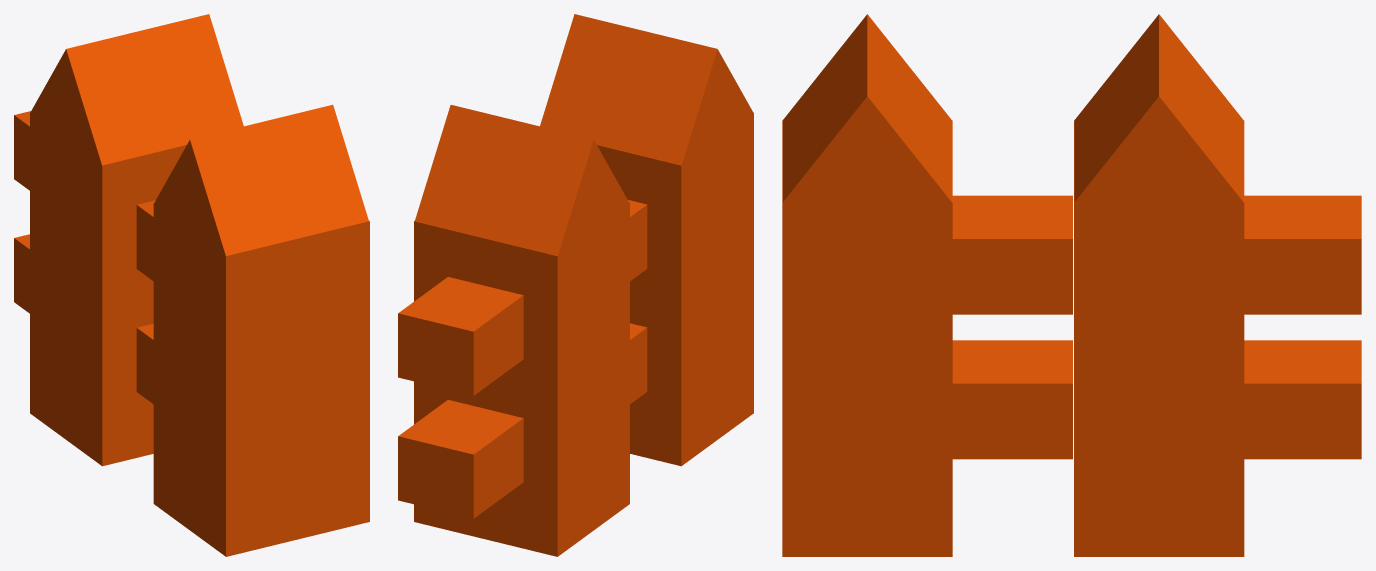
File: fence.fbx
3 renders of one model, left to right at view 1: azimuth 30°, elevation 25°; view 2: azimuth 150°, elevation 25°; view 3: azimuth 270°, elevation 25°, orthographic. The views are drawn at different scales.
Visible parts, largest first — view 1: Fence; view 2: Fence; view 3: Fence.
Boxes of the visible parts, bbox=[...] form: Fence: bbox=[14, 14, 369, 556]; Fence: bbox=[398, 14, 753, 556]; Fence: bbox=[782, 14, 1361, 556].
Bounding box in the file's own units: 1 × 2.6 × 2.97.
